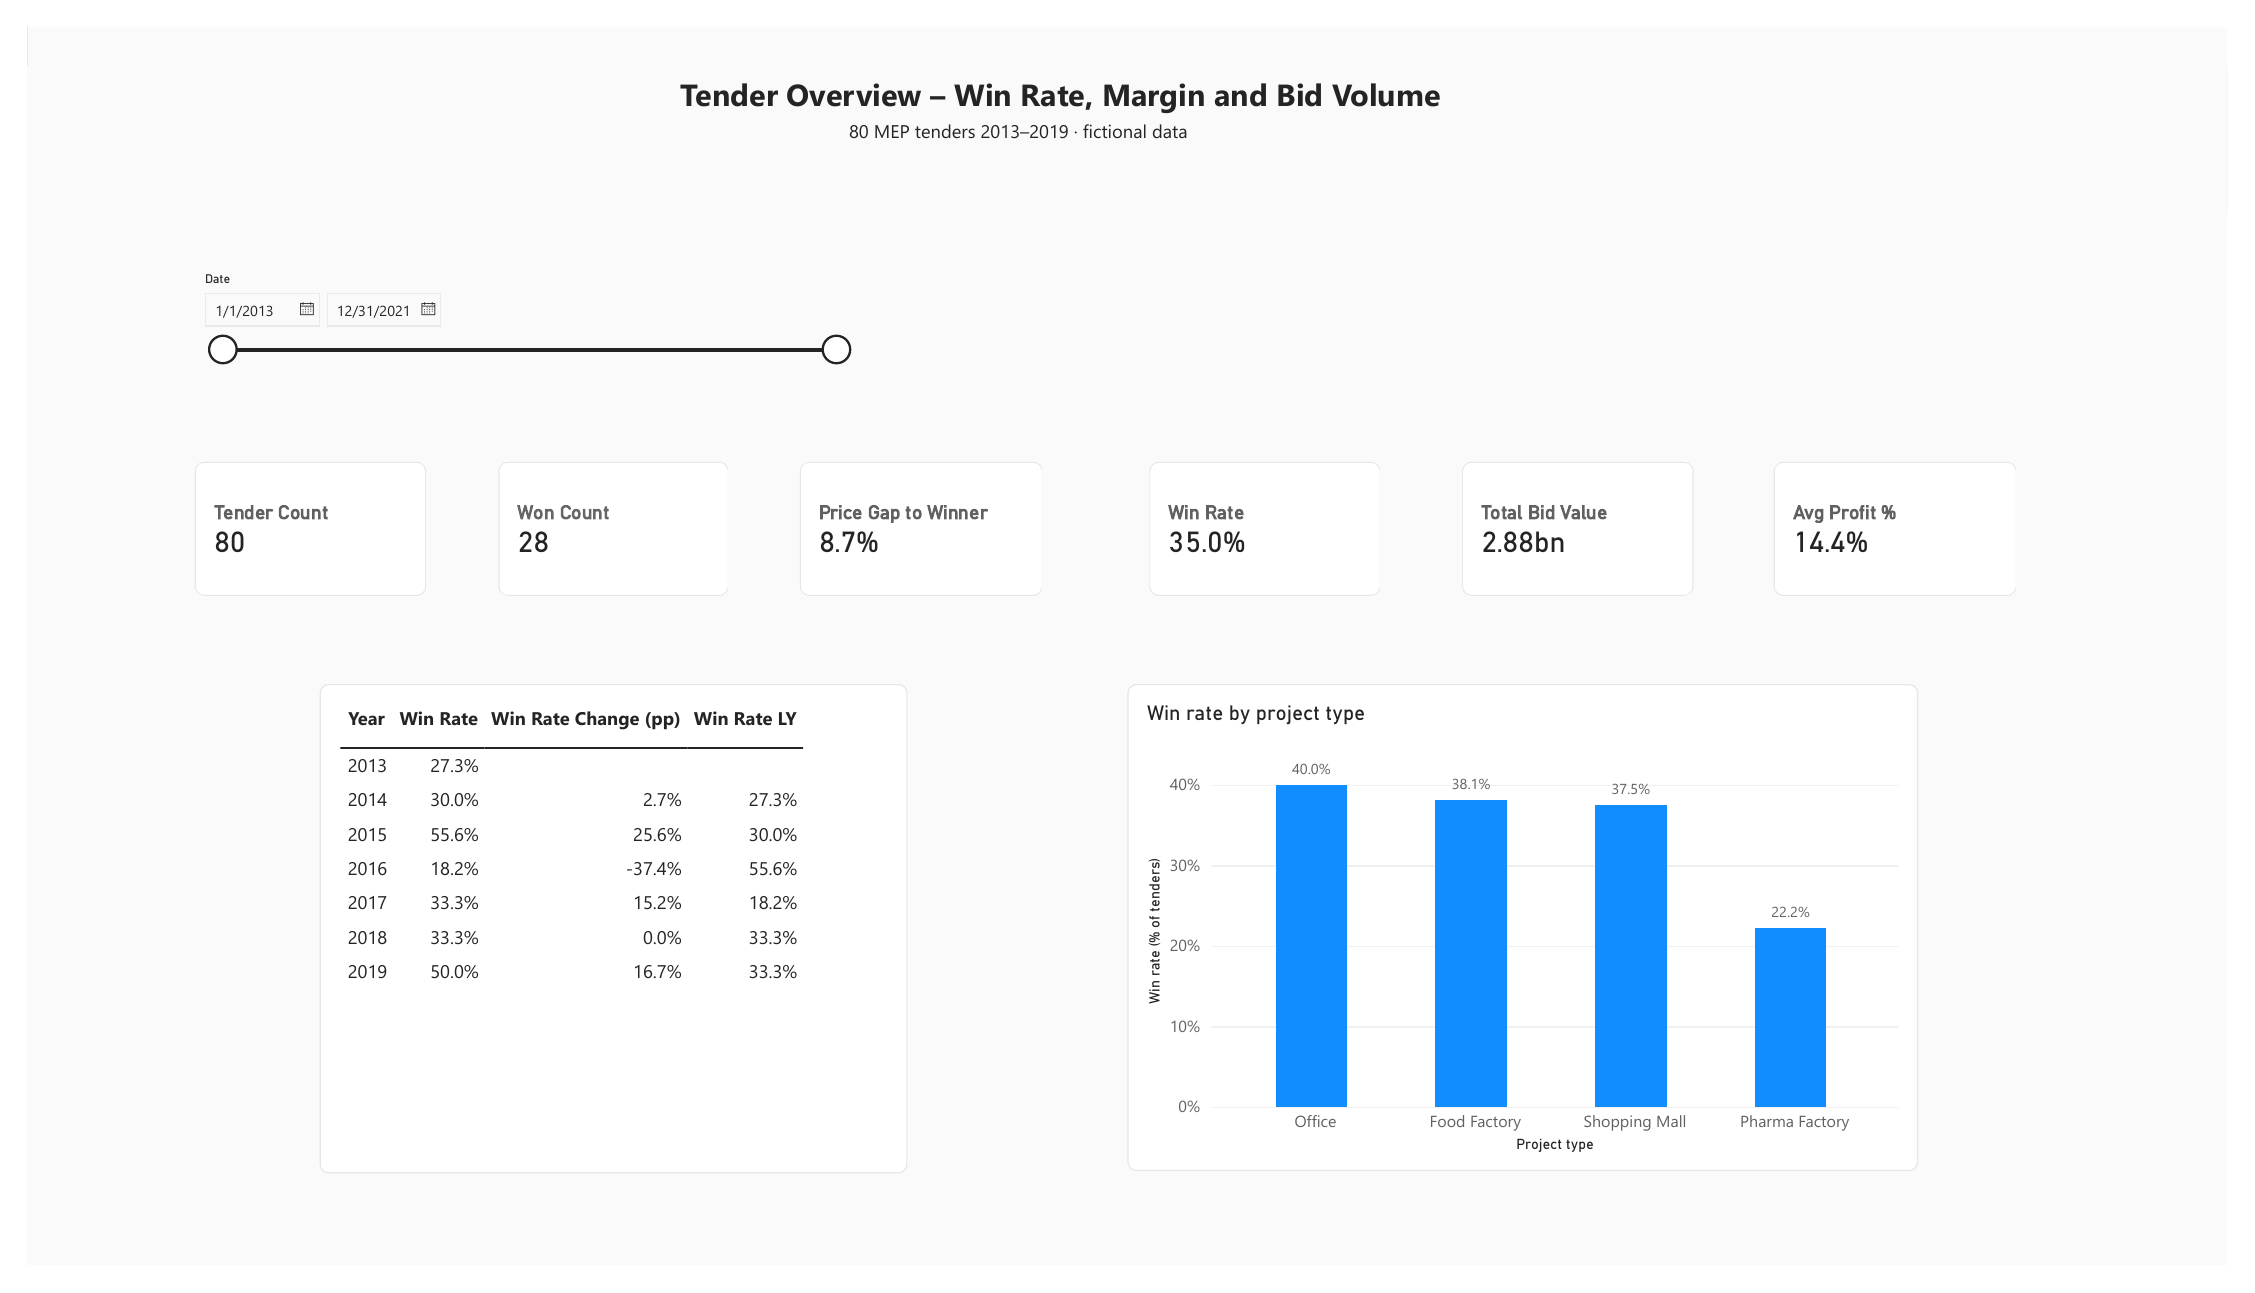

What the dashboard file says about the page in this screenshot:
{"tool":"powerbi","page":{"name":"Overview","canvas":[1920,1080],"ordinal":3},"visuals":[{"type":"cardVisual","fields":{"Data":["tenders.Tender Count"]},"box":[145.8,379.2,201.7,116.7],"z":0},{"type":"cardVisual","fields":{"Data":["tenders.Won Count"]},"box":[410.8,379.2,201.7,116.7],"z":1000},{"type":"cardVisual","fields":{"Data":["tenders.Win Rate"]},"box":[979.2,379.2,201.7,116.7],"z":2000},{"type":"cardVisual","fields":{"Data":["tenders.Avg Profit %"]},"box":[1524.2,379.2,211.7,116.7],"z":3000},{"type":"cardVisual","fields":{"Data":["tenders.Total Bid Value"]},"box":[1252.5,379.2,201.7,116.7],"z":4000},{"type":"cardVisual","fields":{"Data":["tenders.Price Gap to Winner"]},"box":[674.2,379.2,211.7,116.7],"z":5000},{"type":"tableEx","fields":{"Values":["Calendar.Year","tenders.Win Rate","tenders.Win Rate Change (pp)","tenders.Win Rate LY"]},"box":[255,573.3,513.3,426.7],"z":6000},{"type":"slicer","fields":{"Values":["Calendar.Date"]},"box":[146.7,213.3,575,130],"z":7000},{"type":"clusteredColumnChart","title":"Win rate by project type","fields":{"Category":["tenders.ProjectType"],"Y":["tenders.Win Rate"]},"box":[960,573.3,690,425],"z":8000},{"type":"textbox","box":[570,40,1200,56.7],"z":9000},{"type":"textbox","box":[716.7,80,681.7,36.7],"z":10000}]}

Visuals, with their boxes in screenshot pixels (x1, y1, x2, y2), scaled from the page's 1920x1080 canvas onto the 2255x1293 screenshot:
cardVisual - tenders.Tender Count: 171/454/408/594
cardVisual - tenders.Won Count: 482/454/719/594
cardVisual - tenders.Win Rate: 1150/454/1387/594
cardVisual - tenders.Avg Profit %: 1790/454/2039/594
cardVisual - tenders.Total Bid Value: 1471/454/1708/594
cardVisual - tenders.Price Gap to Winner: 792/454/1040/594
tableEx - Calendar.Year x tenders.Win Rate: 299/686/902/1197
slicer - Calendar.Date: 172/255/848/411
"Win rate by project type" clusteredColumnChart: 1128/686/1938/1195
textbox: 669/48/2079/116
textbox: 842/96/1642/140
